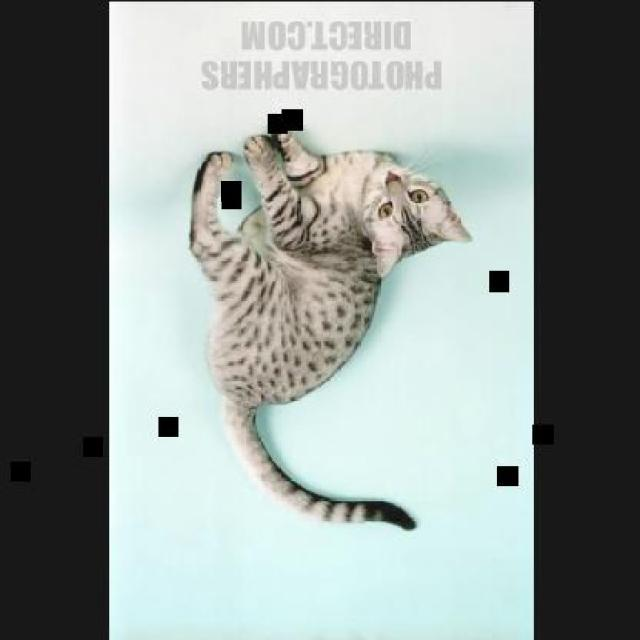unauthorized: (188, 131, 472, 531)
